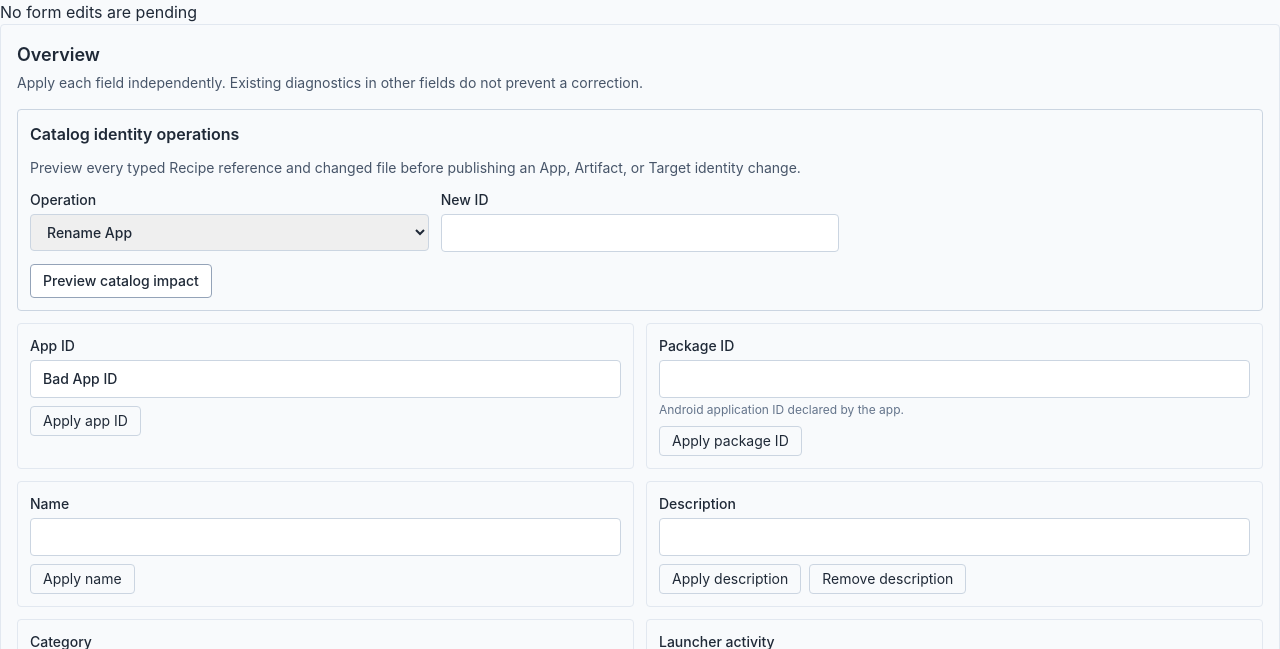
Test: AppDefinitionEditor › shows affected dirty sessions before confirmation and blocks apply
This screenshot has width=1280, height=649.
Select "Rename Artifact" in the dropdown labelled "Operation": (229, 232) x1=30 y1=214 x2=429 y2=251
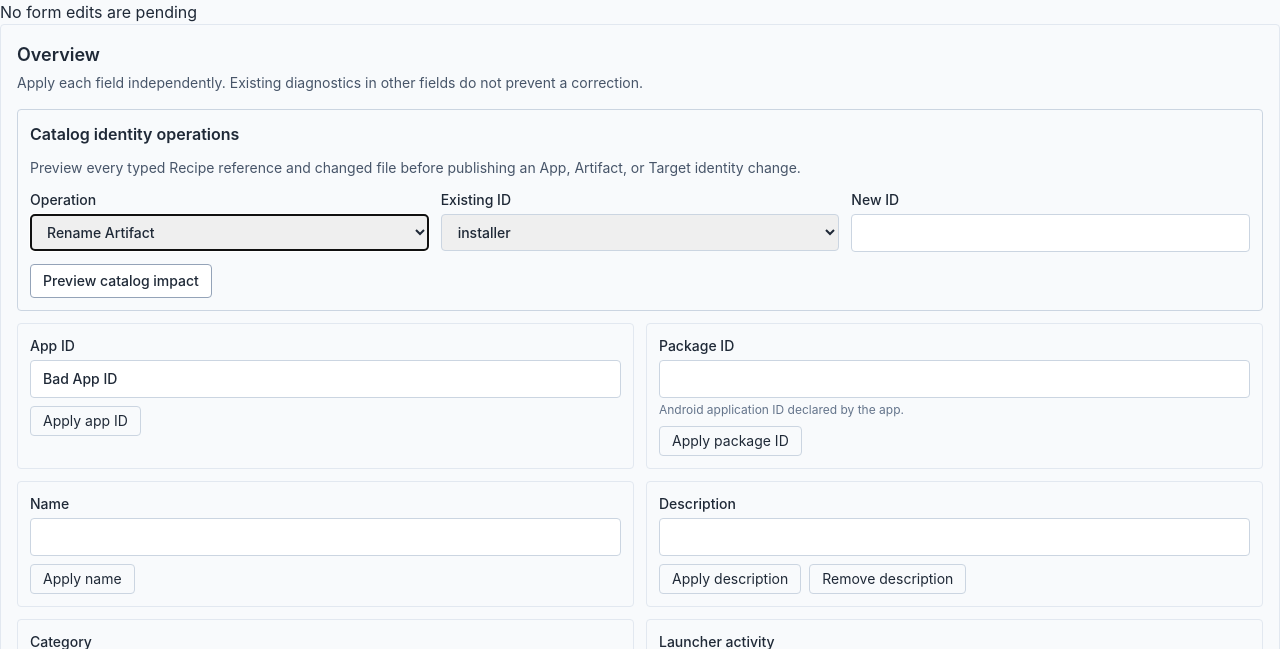
Select "installer" in the dropdown labelled "Existing ID": (640, 232) x1=441 y1=214 x2=839 y2=251
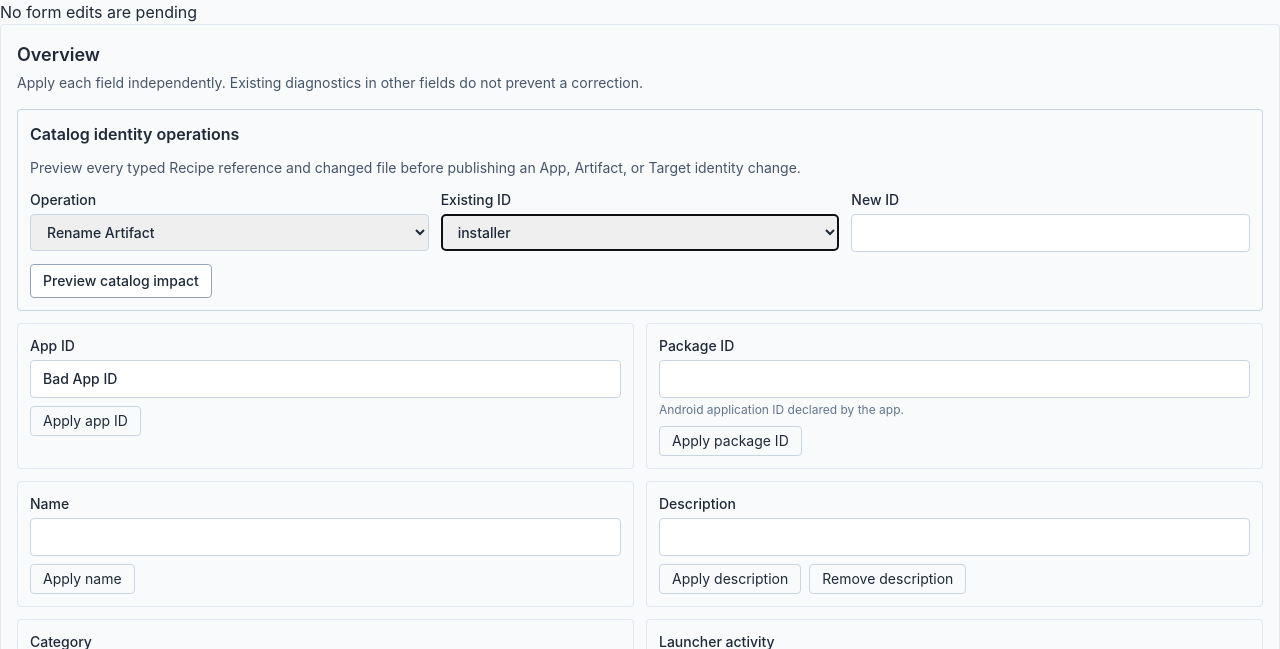
In the field labelled "New ID": (1051, 233) x1=851 y1=214 x2=1250 y2=252, type "primary"
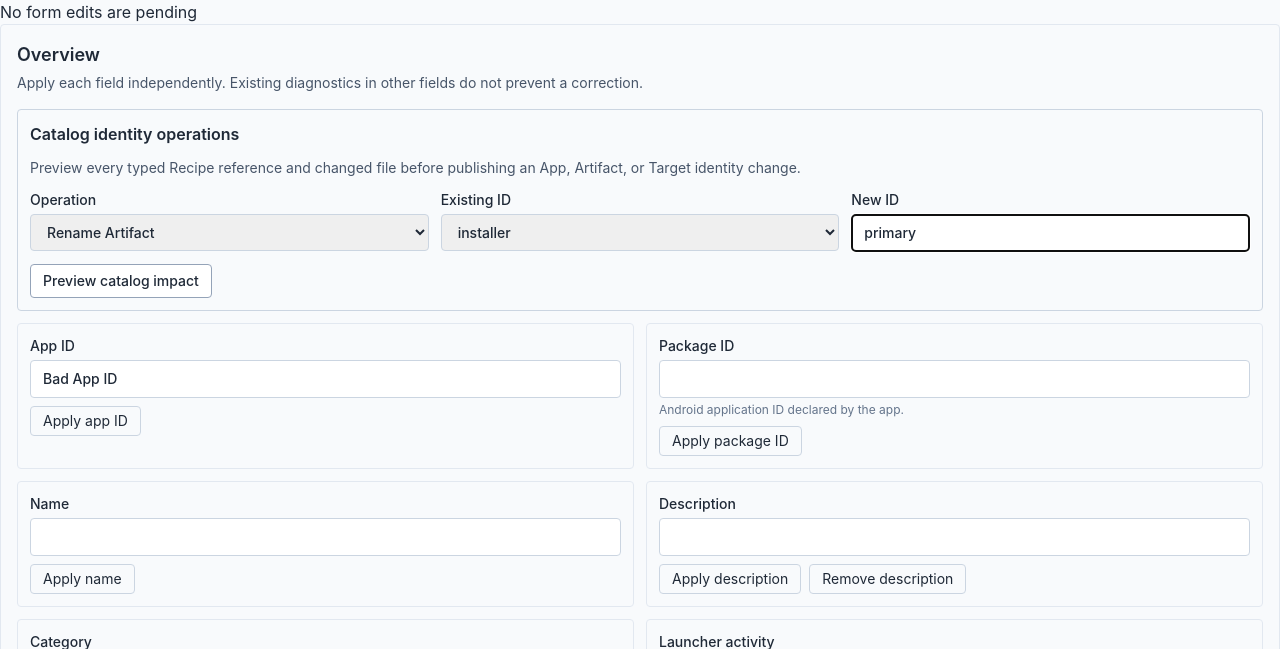
Click the button "Preview catalog impact": (121, 281) x1=30 y1=264 x2=212 y2=298
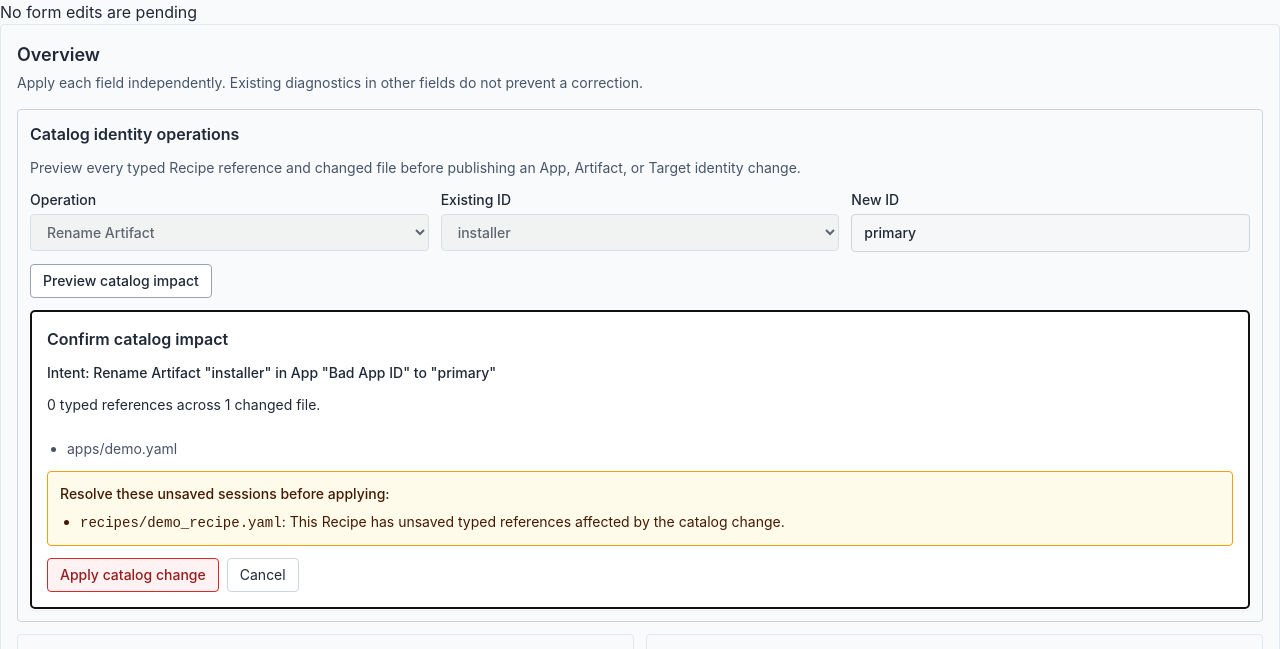
Result: the message is shown at x1=47 y1=471 x2=1233 y2=546
Result: the text "recipes/demo_recipe.yaml" is shown at x1=80 y1=515 x2=282 y2=531
Result: the button "Apply catalog change" is disabled at x1=47 y1=558 x2=219 y2=592
